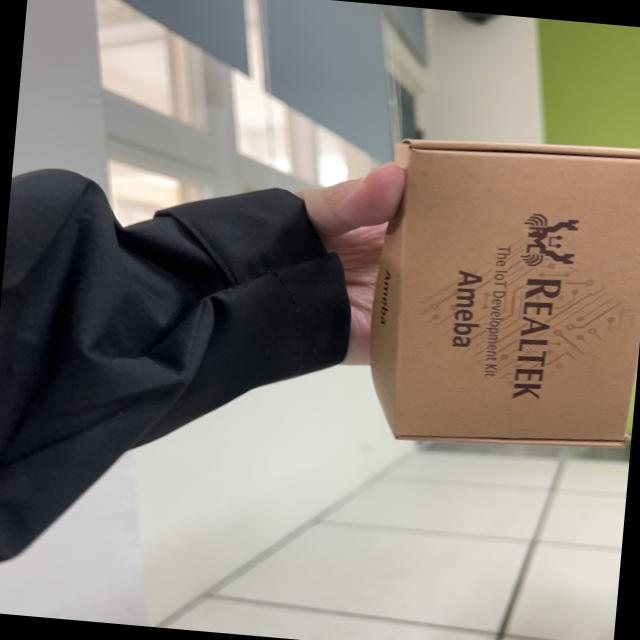box: (360, 127, 640, 507)
